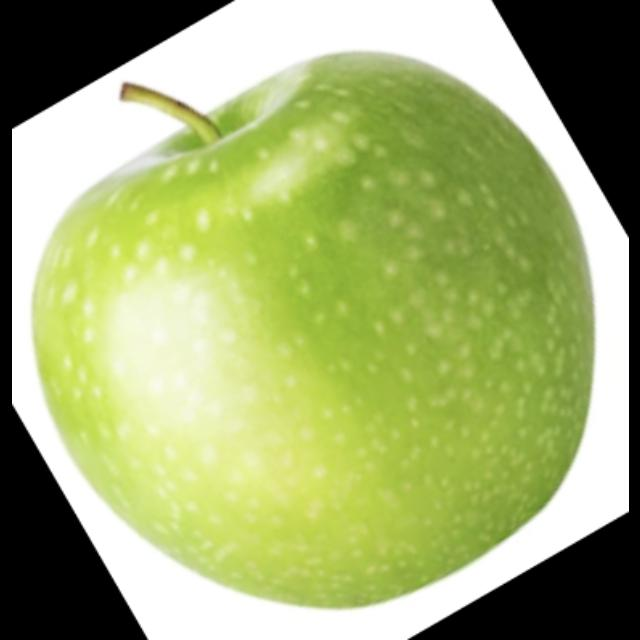Apel Segar: (18, 38, 606, 620)
